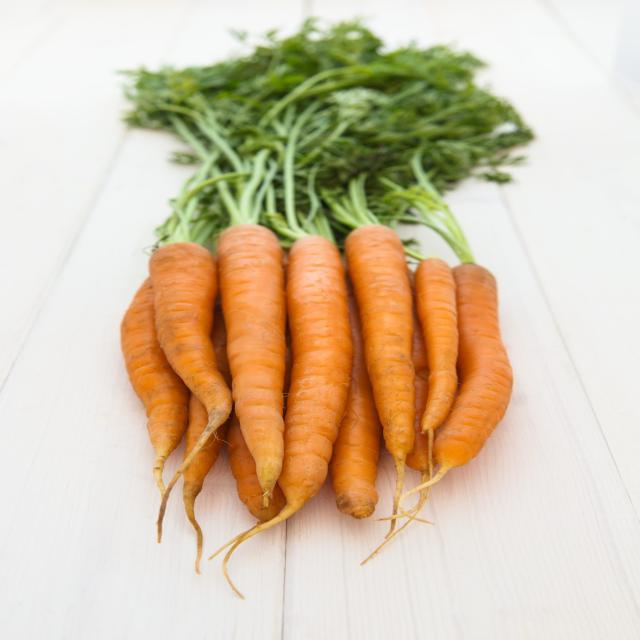Carrot: (206, 224, 308, 495), (343, 220, 432, 479)
